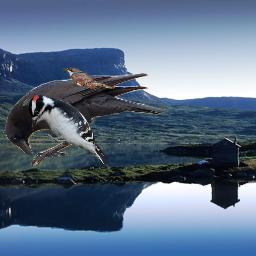Crow: (5, 73, 168, 168)
Cuckoo: (63, 66, 117, 92)
Woodpecker: (27, 93, 111, 173)
